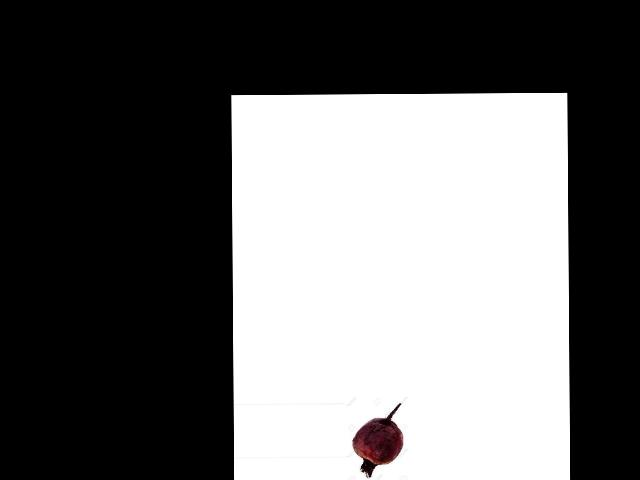beet: (352, 403, 404, 478)
